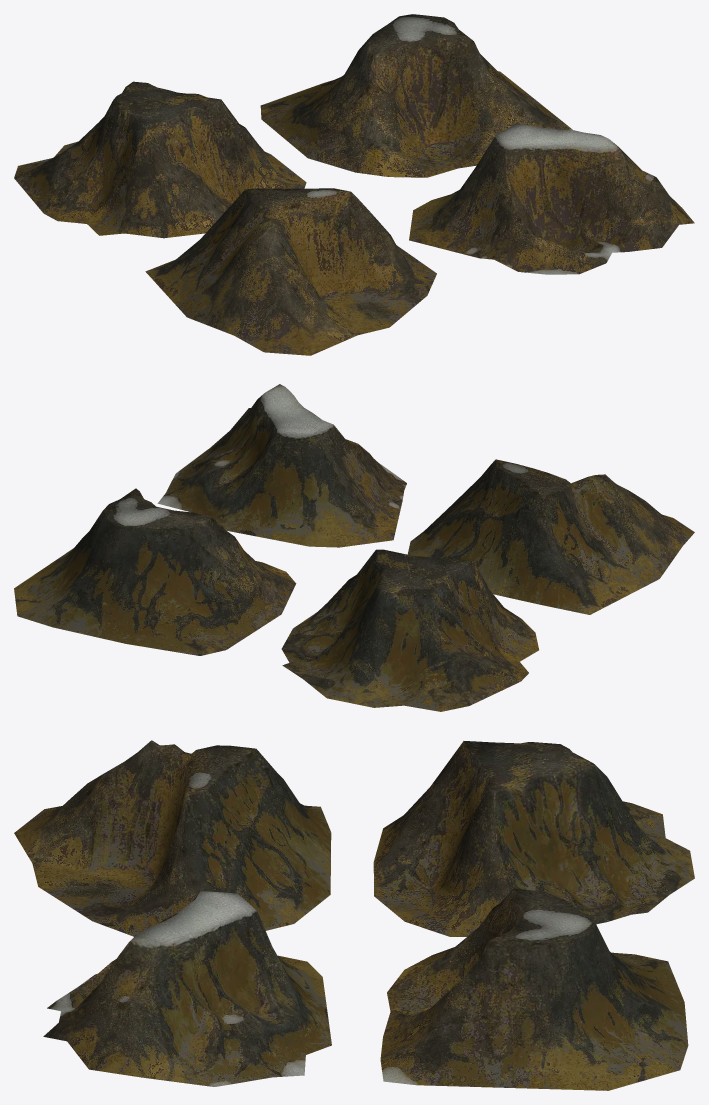
The model's file is mountains.glb.
3 views of the same model, one above another, from view 1: azimuth 30°, elevation 25°; view 2: azimuth 150°, elevation 25°; view 3: azimuth 270°, elevation 25° (orthographic). The views are drawn at different scales.
Parts seen in each view (by area): view 1: mountain1__0; view 2: mountain1__0; view 3: mountain1__0.
Boxes of the visible parts, x1,y1,x2,y2 form: mountain1__0: (14, 14, 694, 355); mountain1__0: (14, 384, 694, 711); mountain1__0: (14, 740, 694, 1090).
Size of the model in its own units: 22199 by 3748 by 21939.
1 material, 1 textured.
